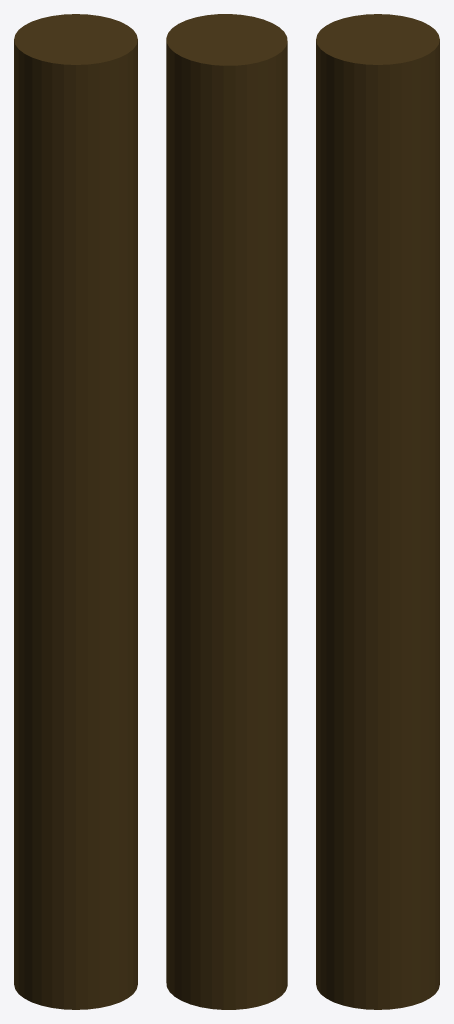
The model's file is stick.fbx.
The picture shows the model from 3 angles, left to right: view 1: azimuth 90°, elevation 25°; view 2: azimuth 210°, elevation 25°; view 3: azimuth 270°, elevation 25°; orthographic projection.
Parts seen in each view (by area): view 1: Cylinder; view 2: Cylinder; view 3: Cylinder.
Part boxes in pixels (<box>): Cylinder: <box>14,14,137,1009</box>; Cylinder: <box>166,14,287,1009</box>; Cylinder: <box>316,14,439,1009</box>.
Bounding box in the file's own units: 90.82 × 784 × 93.17.
